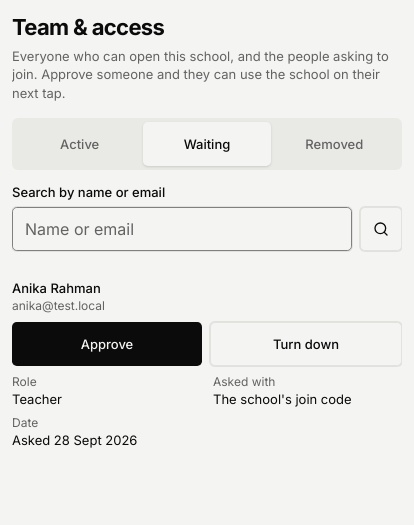
Test: TeamView (D-110) › approving says who can now use the school and refreshes
Click the button with aria-label "Approve Anika Rahman": coordinates (107, 344) [12, 322, 202, 366]
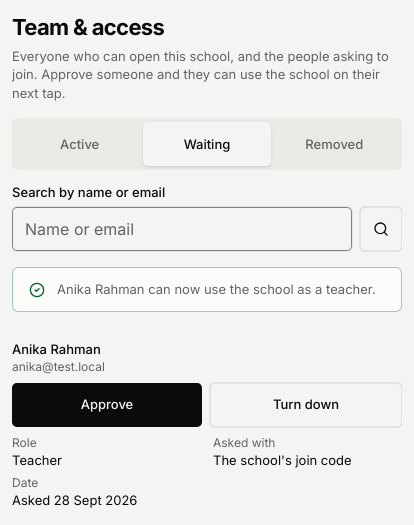
Check: the text "Anika Rahman can now use the school as a teacher." is shown, box [57, 280, 385, 299]
